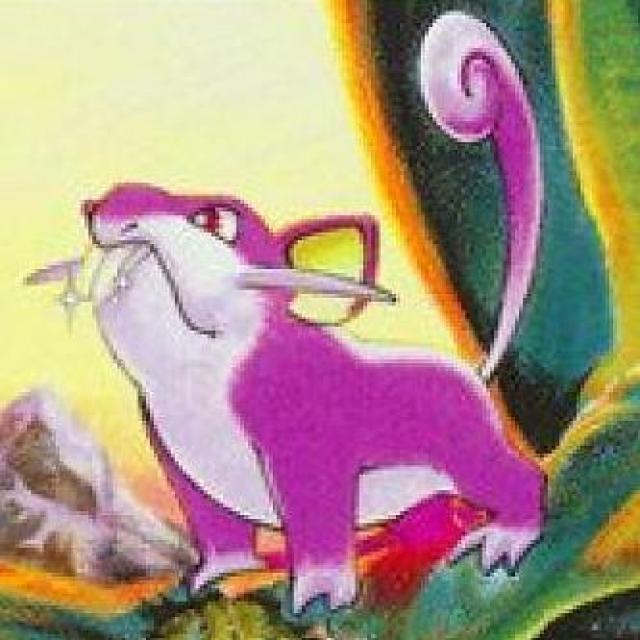Rattata: (75, 168, 528, 586)
